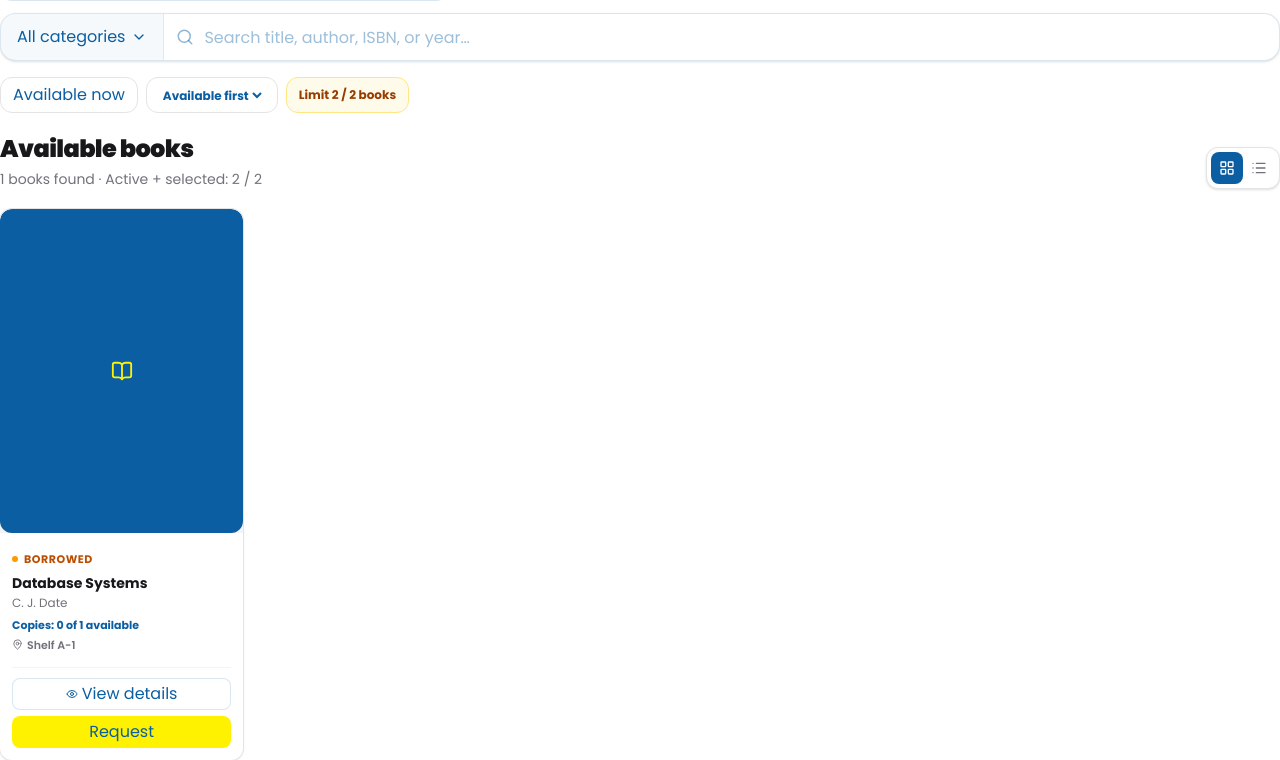
Test case: BookCatalog availability refresh › explains the two-book limit before sending another reservation request
(page scrolled)
Click the button "Request" at point(122, 732), box left=12, top=716, right=231, bottom=748
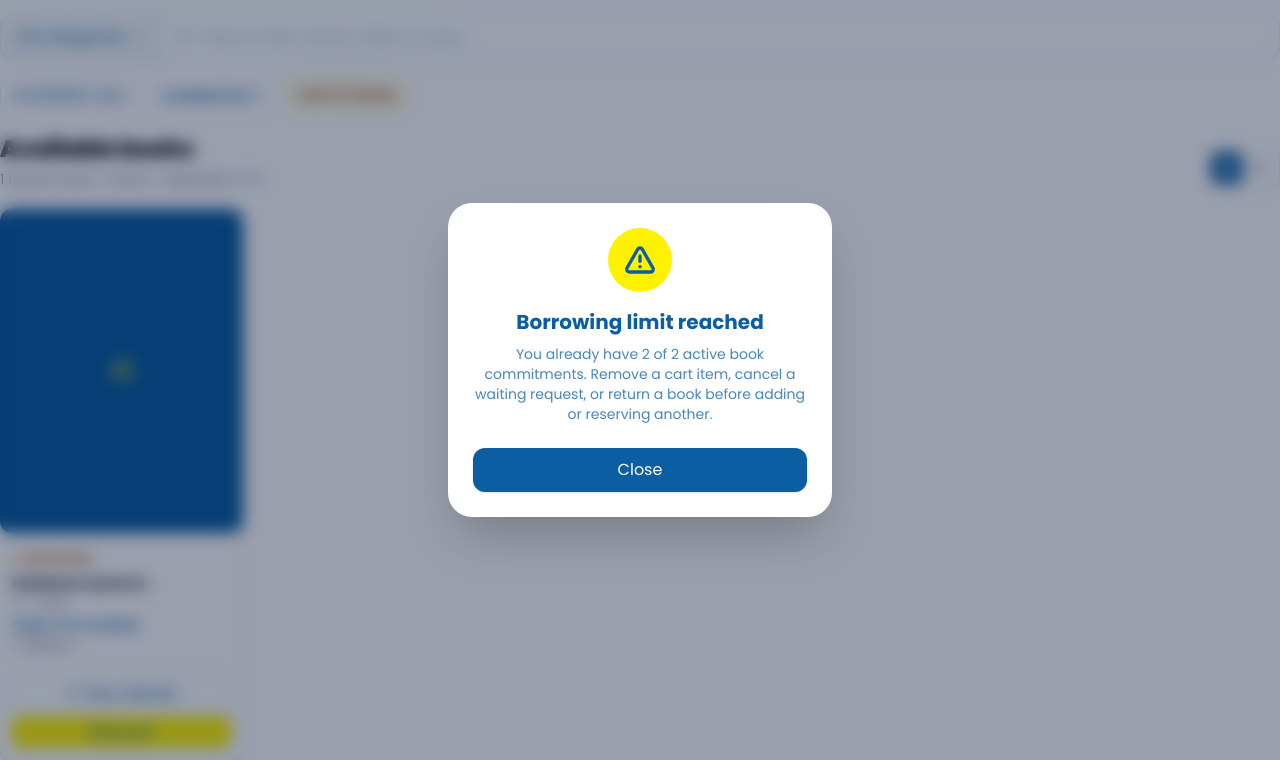
Now the dialog shows "Borrowing limit reached", box left=516, top=308, right=764, bottom=336
Now the dialog shows "already have 2 of 2 active book commitments", box left=475, top=344, right=805, bottom=424
